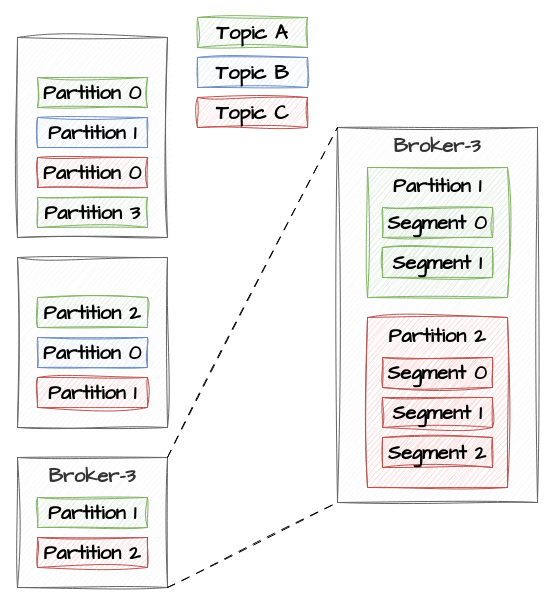
This 555x606 diagram has some shape labels left out. Here are the shapes that lost their labels. From the top down, the box of each, then its label:
(16, 36, 168, 238): Broker-1
(16, 256, 168, 428): Broker-2
